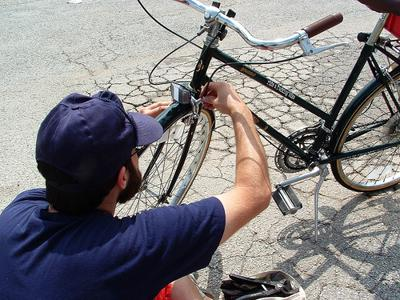person: (1, 81, 274, 300)
